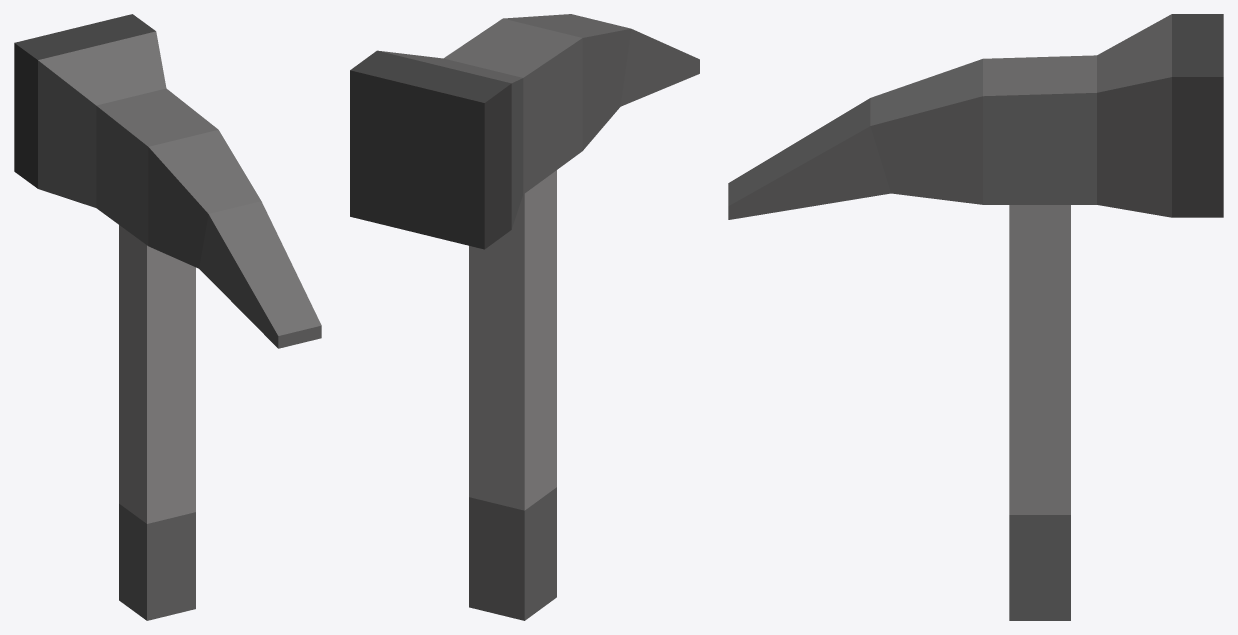
File: Pickaxe.fbx
3 views of the same model, side by side, from view 1: azimuth 30°, elevation 25°; view 2: azimuth 150°, elevation 25°; view 3: azimuth 270°, elevation 25° (orthographic). The views are drawn at different scales.
Parts seen in each view (by area): view 1: Cube; view 2: Cube; view 3: Cube.
Boxes of the visible parts, x1,y1,x2,y2 form: Cube: [14, 14, 321, 620]; Cube: [350, 14, 699, 620]; Cube: [728, 14, 1223, 620].
Size of the model in its own units: 79.58 by 331 by 264.
